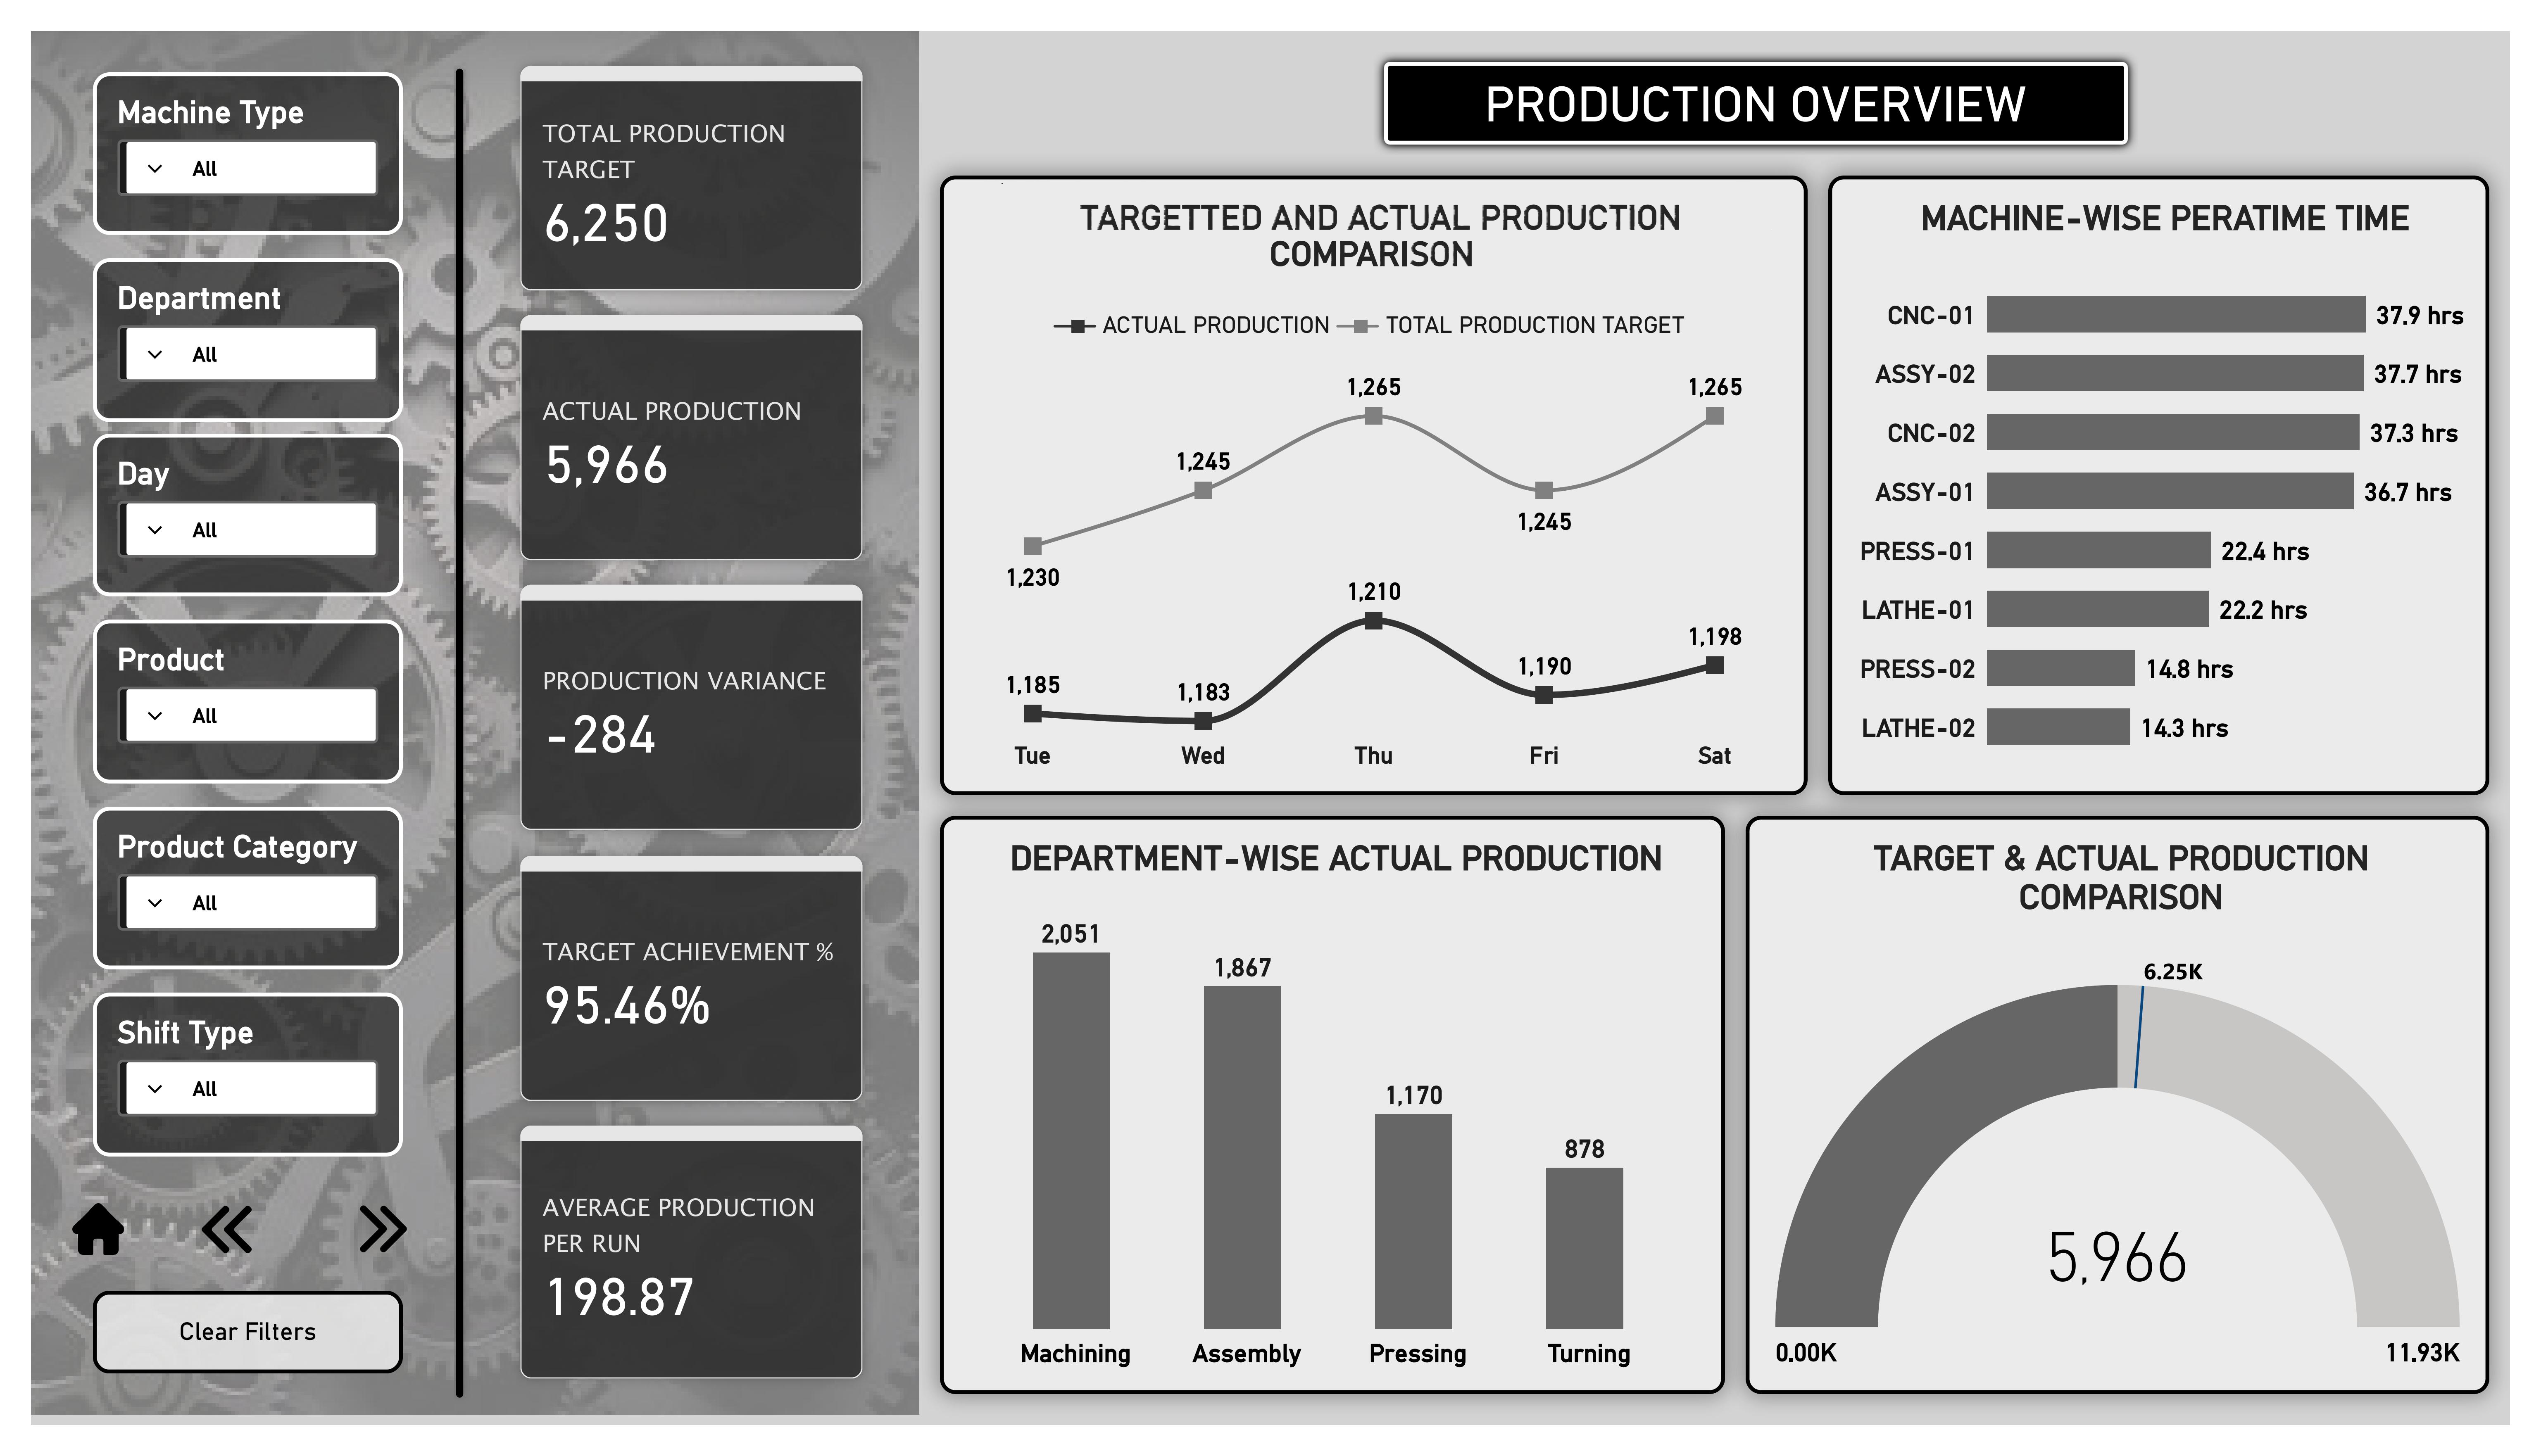

What the dashboard file says about the page in this screenshot:
{"tool":"powerbi","page":{"name":"Production Overview","canvas":[1920,1080],"ordinal":0},"visuals":[{"type":"image","box":[0,0,688,1072],"z":0},{"type":"cardVisual","fields":{"Data":["Dax (Level 1).TOTAL TARGET QUANTITY"]},"box":[368.4,16,287.6,196.2],"z":1000,"group":"g1"},{"type":"lineChart","title":"MONTHLY - TARGETTED AND ACTUAL PRODUCTION COMPARISON","fields":{"Category":["DimDate.Weekly Day "],"Y":["1 Basic Production Measures.ACTUAL PRODUCTION","1 Basic Production Measures.TOTAL PRODUCTION TARGET"]},"box":[704,112,672,480],"z":1000},{"type":"image","box":[32,896,40,64],"z":1000,"group":"g5"},{"type":"cardVisual","fields":{"Data":["Dax (Level 1).ACTUAL QUANTITY"]},"box":[368.4,209,287.6,212.5],"z":2000,"group":"g1"},{"type":"clusteredColumnChart","title":"DEPARTMENT-WISE ACTUAL PRODUCTION","fields":{"Category":["DimDepartment.DepartmentName"],"Y":["1 Basic Production Measures.ACTUAL PRODUCTION"]},"box":[704,608,608,448],"z":2000},{"type":"gauge","title":"TARGET & ACTUAL PRODUCTION COMPARISON","fields":{"TargetValue":["1 Basic Production Measures.TOTAL PRODUCTION TARGET"],"Y":["1 Basic Production Measures.ACTUAL PRODUCTION"]},"box":[1328,608,576,448],"z":3000},{"type":"image","box":[241.9,896,62.1,64],"z":3000,"group":"g6"},{"type":"shape","box":[324,24,16,1040],"z":4000},{"type":"cardVisual","fields":{"Data":["Dax (Level 1).AVERAGE PRODUCTION PER RUN"]},"box":[368,837,287.6,219],"z":4000,"group":"g1"},{"type":"image","box":[128,904,46.6,48],"z":4000,"group":"g6"},{"type":"group","id":"g1","title":"Group 1","box":[368,16,288,1040],"z":5000},{"type":"group","id":"g2","title":"Group 3","box":[48,32,240,270.8],"z":5000,"group":"g3"},{"type":"group","id":"g3","title":"Group 2","box":[48,32,240,832],"z":6000},{"type":"group","id":"g4","title":"Group 3","box":[48,311.9,240,559.7],"z":6000,"group":"g3"},{"type":"cardVisual","fields":{"Data":["Dax (Level 1).AVG. QUANTITY"]},"box":[368.4,418.3,287.6,212.5],"z":6000,"group":"g1"},{"type":"listSlicer","fields":{"Values":["DimDepartment.DepartmentName"]},"box":[48,176.4,240,126.4],"z":7000,"group":"g2"},{"type":"group","id":"g5","title":"Group 2","box":[32,896,272,48],"z":7000},{"type":"cardVisual","fields":{"Data":["Dax (Level 1).TARGET ACHIEVEMENT %"]},"box":[368.4,627.7,287.6,212.5],"z":8000,"group":"g1"},{"type":"actionButton","box":[48,976,240,64],"z":8000},{"type":"clusteredBarChart","title":"MACHINE-WISE PERATIME TIME","fields":{"Category":["DimMachine.MachineName"],"Y":["4 Cost And Efficiency.OPERATING TIME"]},"box":[1392,112,512,480],"z":9000},{"type":"shape","box":[1040,16,592,80],"z":10000},{"type":"listSlicer","fields":{"Values":["DimMachine.MachineName"]},"box":[48,32,240,126.4],"z":22000,"group":"g2"},{"type":"group","id":"g6","title":"Group 1","box":[128,896,176,64],"z":23001,"group":"g5"},{"type":"listSlicer","fields":{"Values":["DimProduct.ProductCategory"]},"box":[48,600.8,240,126.4],"z":23500,"group":"g4"},{"type":"listSlicer","fields":{"Values":["DimDate.Date.Variation.Date Hierarchy.Day"]},"box":[48,311.9,240,126.4],"z":24000,"group":"g4"},{"type":"listSlicer","fields":{"Values":["DimShift.ShiftName"]},"box":[48,745.2,240,126.4],"z":25000,"group":"g4"},{"type":"listSlicer","fields":{"Values":["DimProduct.ProductName"]},"box":[48,456.3,240,126.4],"z":25500,"group":"g4"}]}

Visuals, with their boxes on the page's 1920x1080 design canvas (x1, y1, x2, y2). These are canvas units, not pixel positions in the 2541x1456 screenshot, which may show the page scaled, cropped or inside an application window:
image: <box>0,0,688,1072</box>
cardVisual - Dax (Level 1).TOTAL TARGET QUANTITY: <box>368,16,656,212</box>
"MONTHLY - TARGETTED AND ACTUAL PRODUCTION COMPARISON" lineChart: <box>704,112,1376,592</box>
image: <box>32,896,72,960</box>
cardVisual - Dax (Level 1).ACTUAL QUANTITY: <box>368,209,656,422</box>
"DEPARTMENT-WISE ACTUAL PRODUCTION" clusteredColumnChart: <box>704,608,1312,1056</box>
"TARGET & ACTUAL PRODUCTION COMPARISON" gauge: <box>1328,608,1904,1056</box>
image: <box>242,896,304,960</box>
shape: <box>324,24,340,1064</box>
cardVisual - Dax (Level 1).AVERAGE PRODUCTION PER RUN: <box>368,837,656,1056</box>
image: <box>128,904,175,952</box>
"Group 1" group: <box>368,16,656,1056</box>
"Group 3" group: <box>48,32,288,303</box>
"Group 2" group: <box>48,32,288,864</box>
"Group 3" group: <box>48,312,288,872</box>
cardVisual - Dax (Level 1).AVG. QUANTITY: <box>368,418,656,631</box>
listSlicer - DimDepartment.DepartmentName: <box>48,176,288,303</box>
"Group 2" group: <box>32,896,304,944</box>
cardVisual - Dax (Level 1).TARGET ACHIEVEMENT %: <box>368,628,656,840</box>
actionButton: <box>48,976,288,1040</box>
"MACHINE-WISE PERATIME TIME" clusteredBarChart: <box>1392,112,1904,592</box>
shape: <box>1040,16,1632,96</box>
listSlicer - DimMachine.MachineName: <box>48,32,288,158</box>
"Group 1" group: <box>128,896,304,960</box>
listSlicer - DimProduct.ProductCategory: <box>48,601,288,727</box>
listSlicer - DimDate.Date.Variation.Date Hierarchy.Day: <box>48,312,288,438</box>
listSlicer - DimShift.ShiftName: <box>48,745,288,872</box>
listSlicer - DimProduct.ProductName: <box>48,456,288,583</box>
